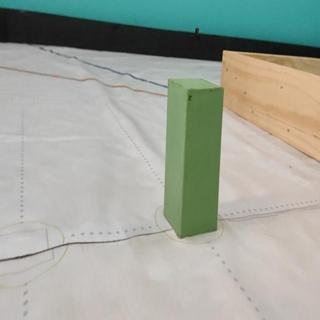greenbox: (162, 75, 225, 240)
